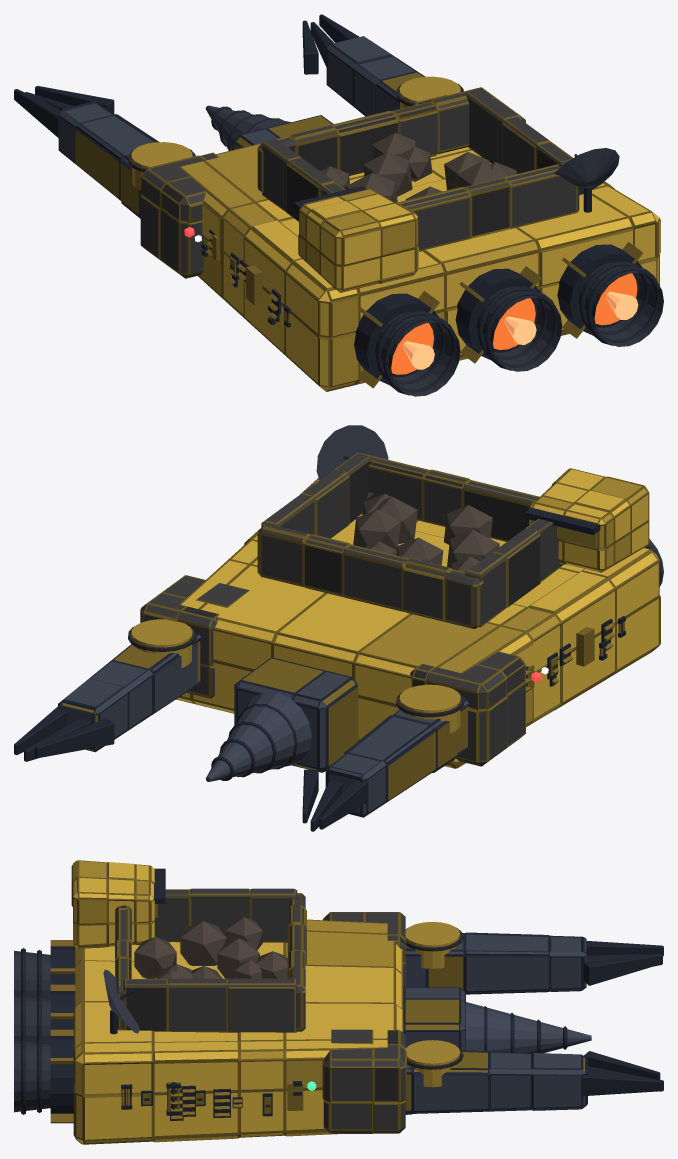
Rendered from prospector.glb.
3 renders of one model, top to bottom at view 1: azimuth 30°, elevation 25°; view 2: azimuth 150°, elevation 25°; view 3: azimuth 270°, elevation 25°, orthographic. The views are drawn at different scales.
Parts seen in each view (by area): view 1: prospector_mesh, radar_mesh; view 2: prospector_mesh, radar_mesh; view 3: prospector_mesh, radar_mesh.
Part boxes in pixels (box(x1,y1,x2,y2)): prospector_mesh: box(14, 14, 663, 396); radar_mesh: box(554, 148, 619, 212); prospector_mesh: box(14, 452, 663, 831); radar_mesh: box(316, 425, 388, 498); prospector_mesh: box(14, 860, 663, 1144); radar_mesh: box(103, 969, 139, 1034).
Size of the model in its own units: 7.7 by 3.66 by 13.47.
